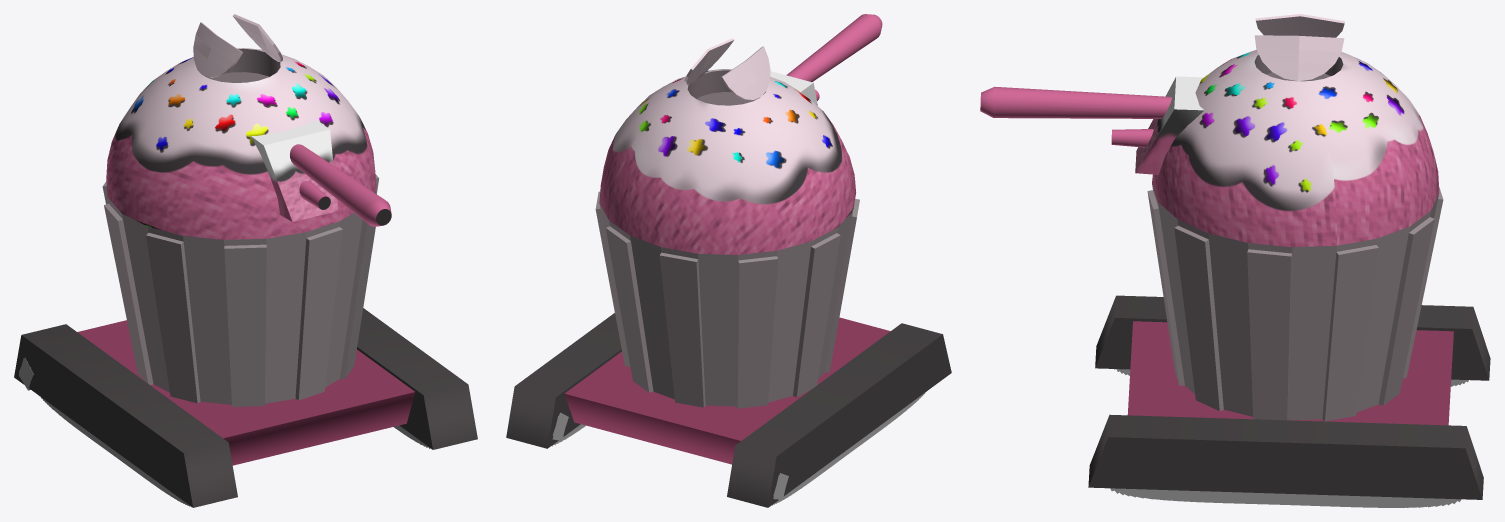
Rendered from Cupcake Tank_Animation.fbx.
3 renders of one model, left to right at view 1: azimuth 30°, elevation 25°; view 2: azimuth 150°, elevation 25°; view 3: azimuth 270°, elevation 25°, orthographic. The views are drawn at different scales.
Parts seen in each view (by area): view 1: Body, pCube7, pCylinder3, Right_Track_MASH_ReproMesh, pCylinder2; view 2: Body, pCylinder3, Right_Track_MASH_ReproMesh, pCube7; view 3: Body, pCylinder3, Left_Track_MASH_ReproMesh, pCube7, pCylinder2.
Boxes of the visible parts, x1,y1,x2,y2 form: Body: (14, 14, 477, 507); pCube7: (251, 119, 338, 221); pCylinder3: (290, 144, 391, 226); Right_Track_MASH_ReproMesh: (18, 358, 191, 507); pCylinder2: (299, 181, 330, 209); Body: (506, 38, 951, 507); pCylinder3: (786, 14, 882, 81); Right_Track_MASH_ReproMesh: (772, 391, 926, 505); pCube7: (770, 71, 817, 105); Body: (1088, 14, 1490, 499); pCylinder3: (980, 86, 1171, 118); Left_Track_MASH_ReproMesh: (1110, 488, 1461, 507); pCube7: (1135, 76, 1204, 174); pCylinder2: (1111, 129, 1153, 147).
Size of the model in its own units: 112 by 147 by 163.
